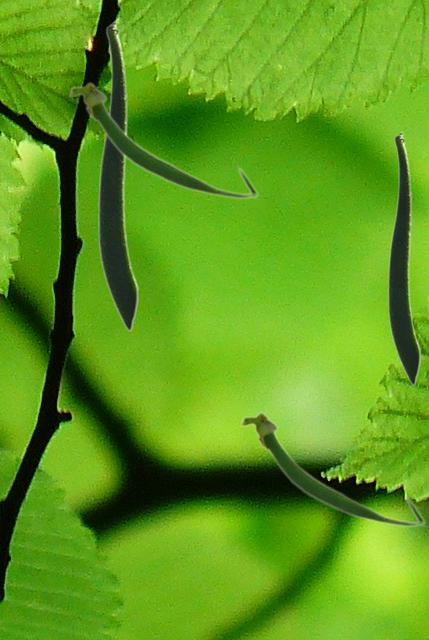french_bean: (67, 80, 258, 199), (239, 410, 425, 527), (97, 20, 138, 331), (387, 131, 420, 385)
